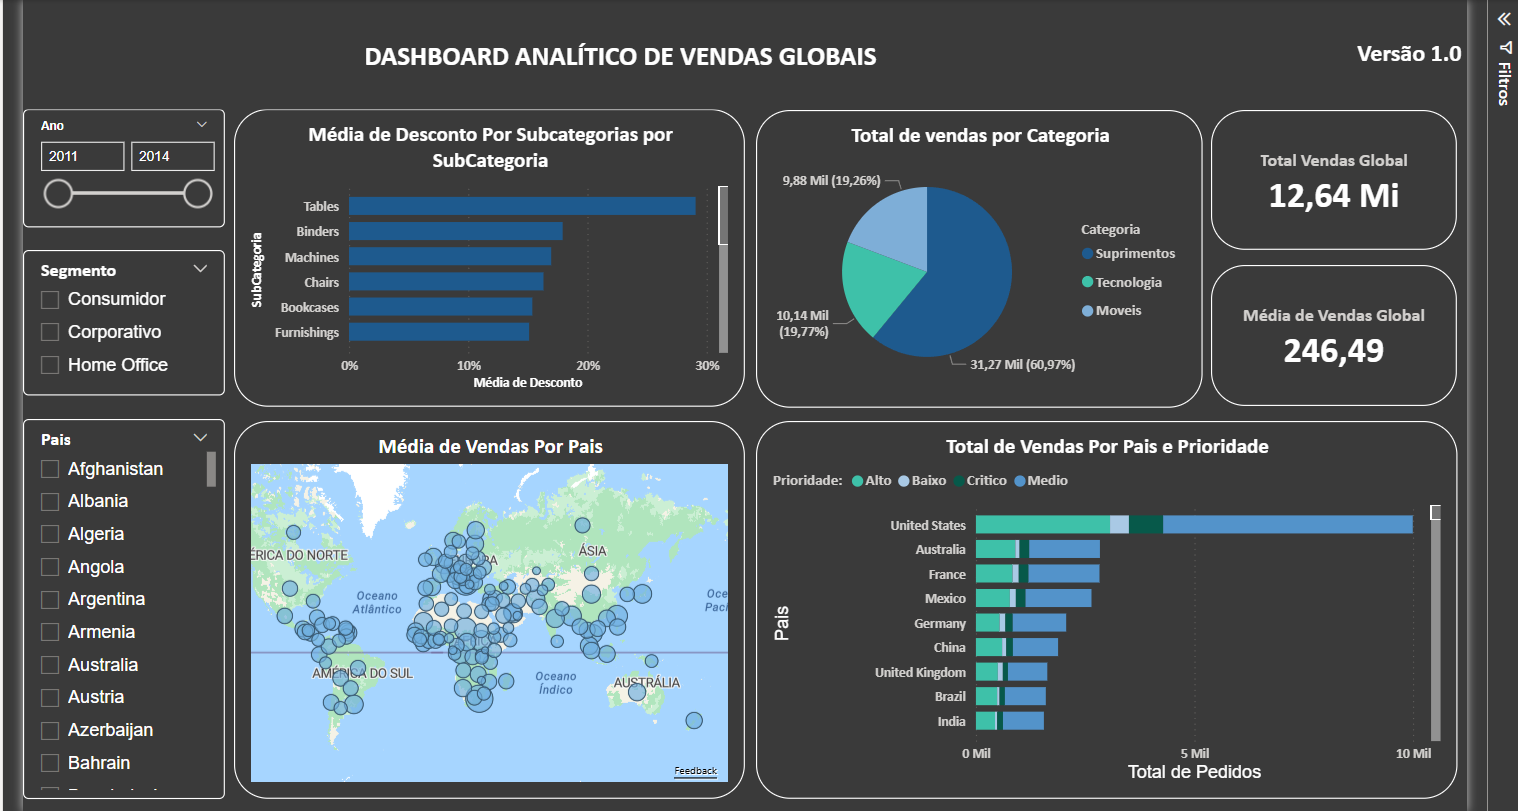

The page's visual inventory and layout, read from the dashboard file:
{"tool":"powerbi","page":{"name":"Página 1","canvas":[1280,720],"ordinal":0},"visuals":[{"type":"cardVisual","title":"Total Vendas Global","fields":{"Data":["Sum(dataset.Total_Vendas)"]},"box":[1053.4,97.5,218.1,124.1],"z":0},{"type":"pieChart","title":"Total de vendas por Categoria","fields":{"Category":["dataset.Categoria"],"Y":["CountNonNull(dataset.ID_Pedido)"]},"box":[650,97.5,396.4,264.2],"z":1000},{"type":"barChart","title":"Total de Vendas Por Pais e Prioridade","fields":{"Category":["dataset.Pais"],"Y":["CountNonNull(dataset.ID_Pedido)"],"Series":["dataset.Prioridade"]},"box":[650,373.3,621.6,335.2],"z":2000},{"type":"clusteredBarChart","title":"Média de Desconto Por Subcategorias por SubCategoria","fields":{"Category":["dataset.SubCategoria"],"Y":["Avg(dataset.Desconto)"]},"box":[187.1,96.7,453.1,264.2],"z":3000},{"type":"azureMap","title":"Média de Vendas Por Pais","fields":{"Size":["Avg(dataset.Total_Vendas)"],"Category":["dataset.Pais"]},"box":[187.1,373.3,453.1,335.2],"z":4000},{"type":"slicer","fields":{"Values":["dataset.Pais"]},"box":[0,371.5,179.1,336.9],"z":5000},{"type":"slicer","fields":{"Values":["dataset.Segmento"]},"box":[0,221.7,179.1,129.5],"z":6000},{"type":"slicer","fields":{"Values":["dataset.Data_Pedido.Variation.Hierarquia de datas.Ano"]},"box":[0,96.7,179.1,104.6],"z":7000},{"type":"textbox","box":[0,15.1,1059.6,82.5],"z":8000},{"type":"textbox","box":[1059.6,14.2,220.8,82.5],"z":9000},{"type":"cardVisual","title":"Total Vendas Global","fields":{"Data":["Avg(dataset.Total_Vendas)"]},"box":[1053.4,235,218.1,125],"z":9001}]}

Visuals, with their boxes in screenshot pixels (x1, y1, x2, y2):
"Total Vendas Global" cardVisual: 1167:136:1401:269
"Total de vendas por Categoria" pieChart: 735:136:1160:419
"Total de Vendas Por Pais e Prioridade" barChart: 735:431:1401:790
"Média de Desconto Por Subcategorias por SubCategoria" clusteredBarChart: 240:135:725:418
"Média de Vendas Por Pais" azureMap: 240:431:725:790
slicer - dataset.Pais: 40:429:231:790
slicer - dataset.Segmento: 40:269:231:408
slicer - dataset.Data_Pedido.Variation.Hierarquia de datas.Ano: 40:135:231:247
textbox: 40:48:1174:136
textbox: 1174:47:1410:135
"Total Vendas Global" cardVisual: 1167:283:1401:417
